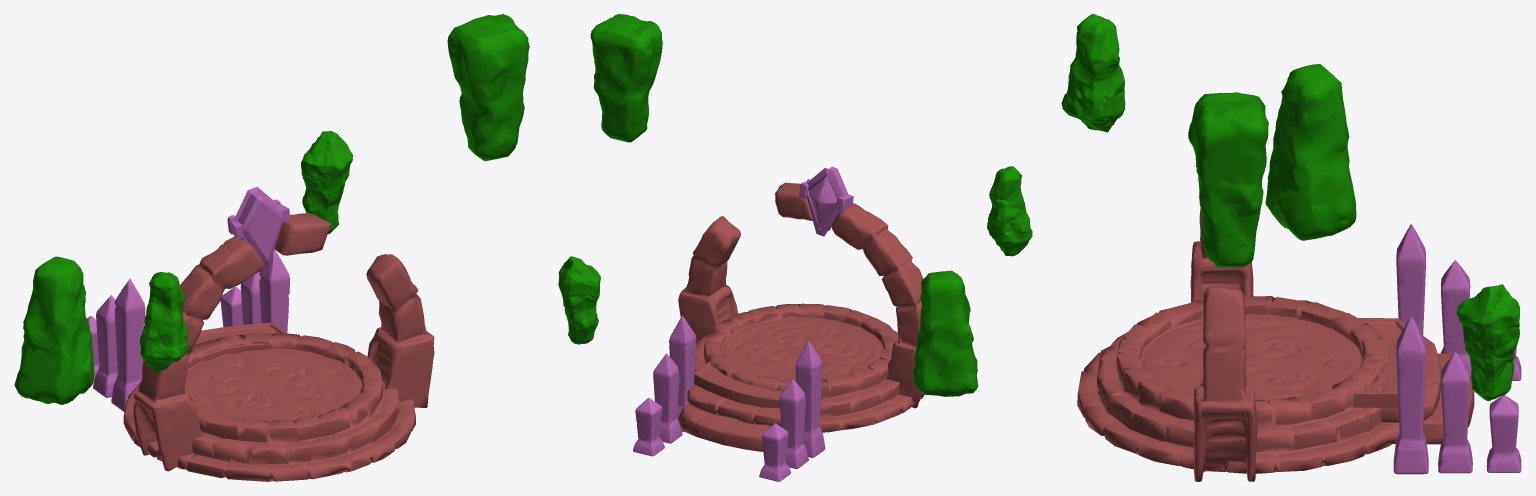
The model's file is Stylized_Portal_low_01.fbx.
3 views of the same model, side by side, from view 1: azimuth 30°, elevation 25°; view 2: azimuth 150°, elevation 25°; view 3: azimuth 270°, elevation 25° (orthographic). The views are drawn at different scales.
Parts seen in each view (by area): view 1: Stylized_Portal_07_low; view 2: Stylized_Portal_07_low; view 3: Stylized_Portal_07_low.
Boxes of the visible parts, x1,y1,x2,y2 form: Stylized_Portal_07_low: (14, 14, 529, 481); Stylized_Portal_07_low: (558, 14, 1032, 481); Stylized_Portal_07_low: (1061, 14, 1521, 481).
Size of the model in its own units: 260 by 199 by 185.
